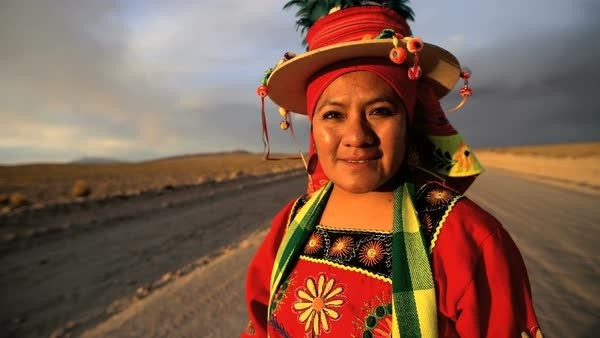face_no_mask: (305, 59, 411, 196)
